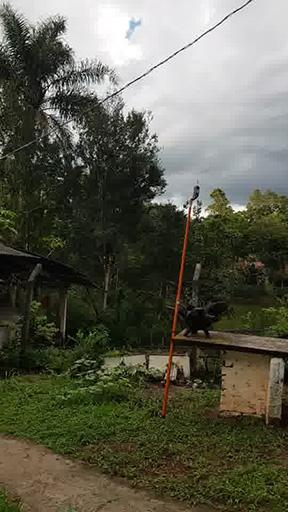Detector_Tensao_Contato: (190, 178, 201, 202)
Vara_Manobra: (160, 203, 192, 418)
